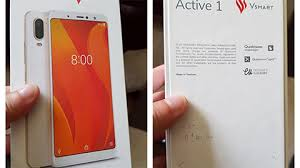vsmart: (46, 8, 120, 165)
